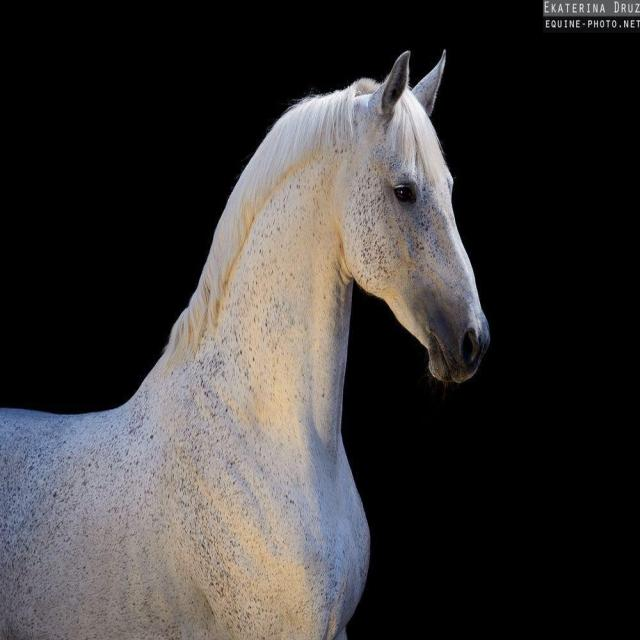horse: (0, 47, 490, 639)
